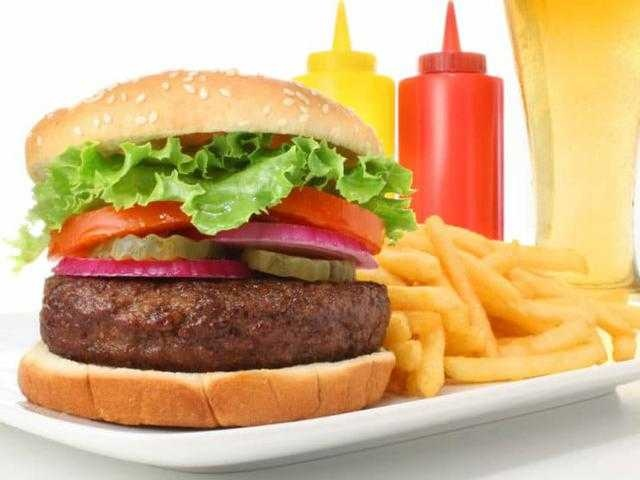hamburger: (1, 80, 408, 420)
